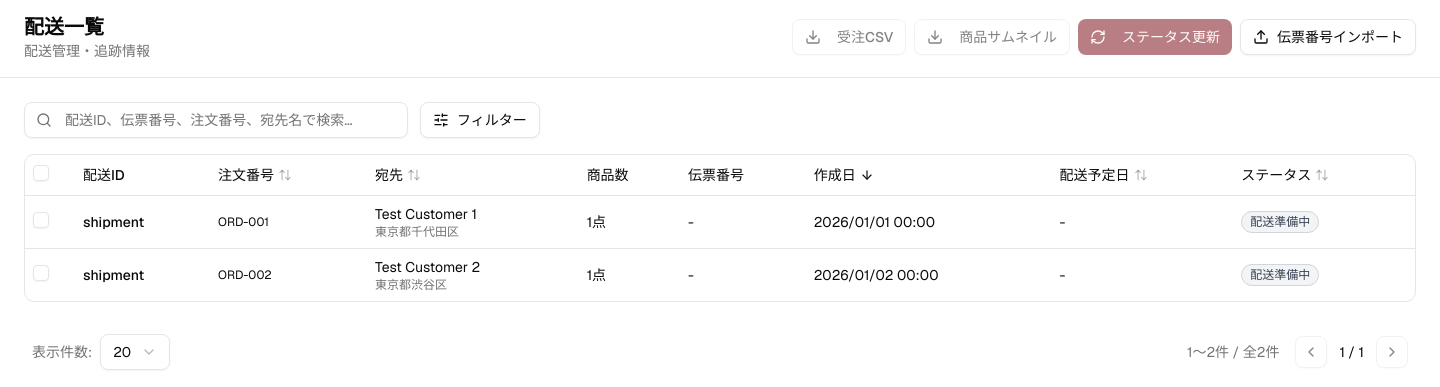
Test: AC-016: Button shows loading state during download › shows "ダウンロード中..." and disables button during download
Click the checkbox in the row of "ORD-001".
click(41, 220)  # box left=33, top=212, right=49, bottom=228
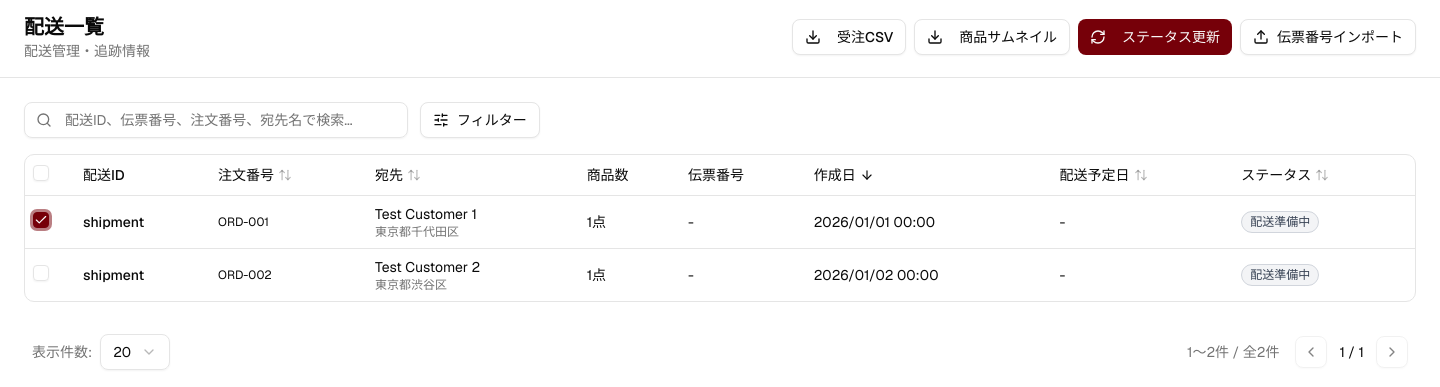
Click the button "商品サムネイル".
click(992, 37)  # box left=914, top=19, right=1070, bottom=55
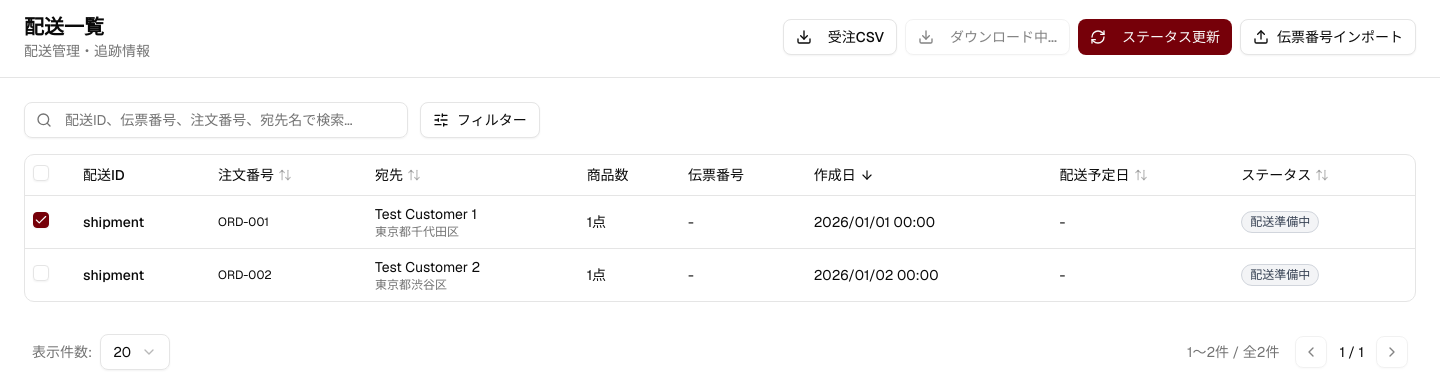
Check: the button "ダウンロード中..." is disabled, box left=905, top=19, right=1070, bottom=55
